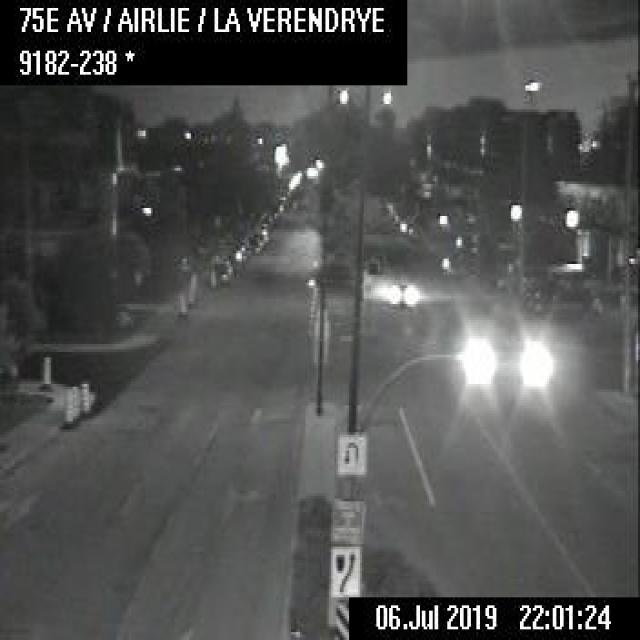construction: (78, 380, 90, 415), (62, 384, 72, 424), (69, 382, 79, 419), (185, 271, 194, 306), (208, 264, 217, 290), (42, 353, 49, 384), (178, 290, 185, 318)
vehicle: (388, 276, 415, 307), (213, 257, 233, 281)
